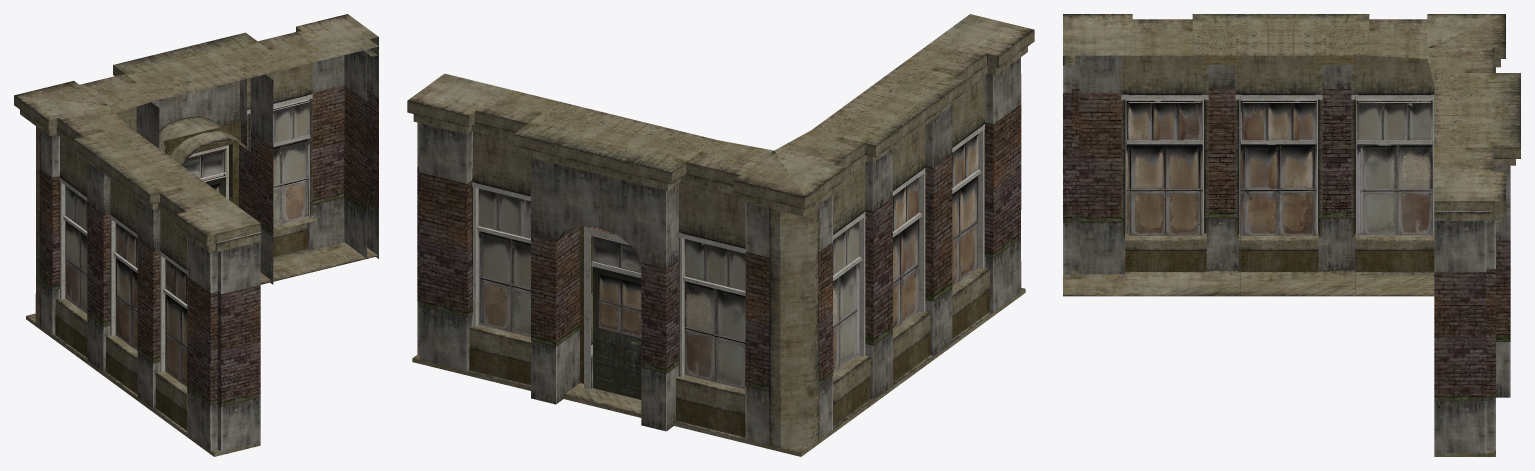
File: Corner_Building_Part_01_Base.fbx
3 renders of one model, left to right at view 1: azimuth 30°, elevation 25°; view 2: azimuth 150°, elevation 25°; view 3: azimuth 270°, elevation 25°, orthographic. The views are drawn at different scales.
Visible parts, largest first — view 1: Corner_Building_Part_01_Base; view 2: Corner_Building_Part_01_Base; view 3: Corner_Building_Part_01_Base.
Part boxes in pixels (x1,y1,x2,y2): Corner_Building_Part_01_Base: (14, 14, 378, 456); Corner_Building_Part_01_Base: (407, 14, 1034, 456); Corner_Building_Part_01_Base: (1063, 14, 1520, 456).
Size of the model in its own units: 716 by 456 by 740.
